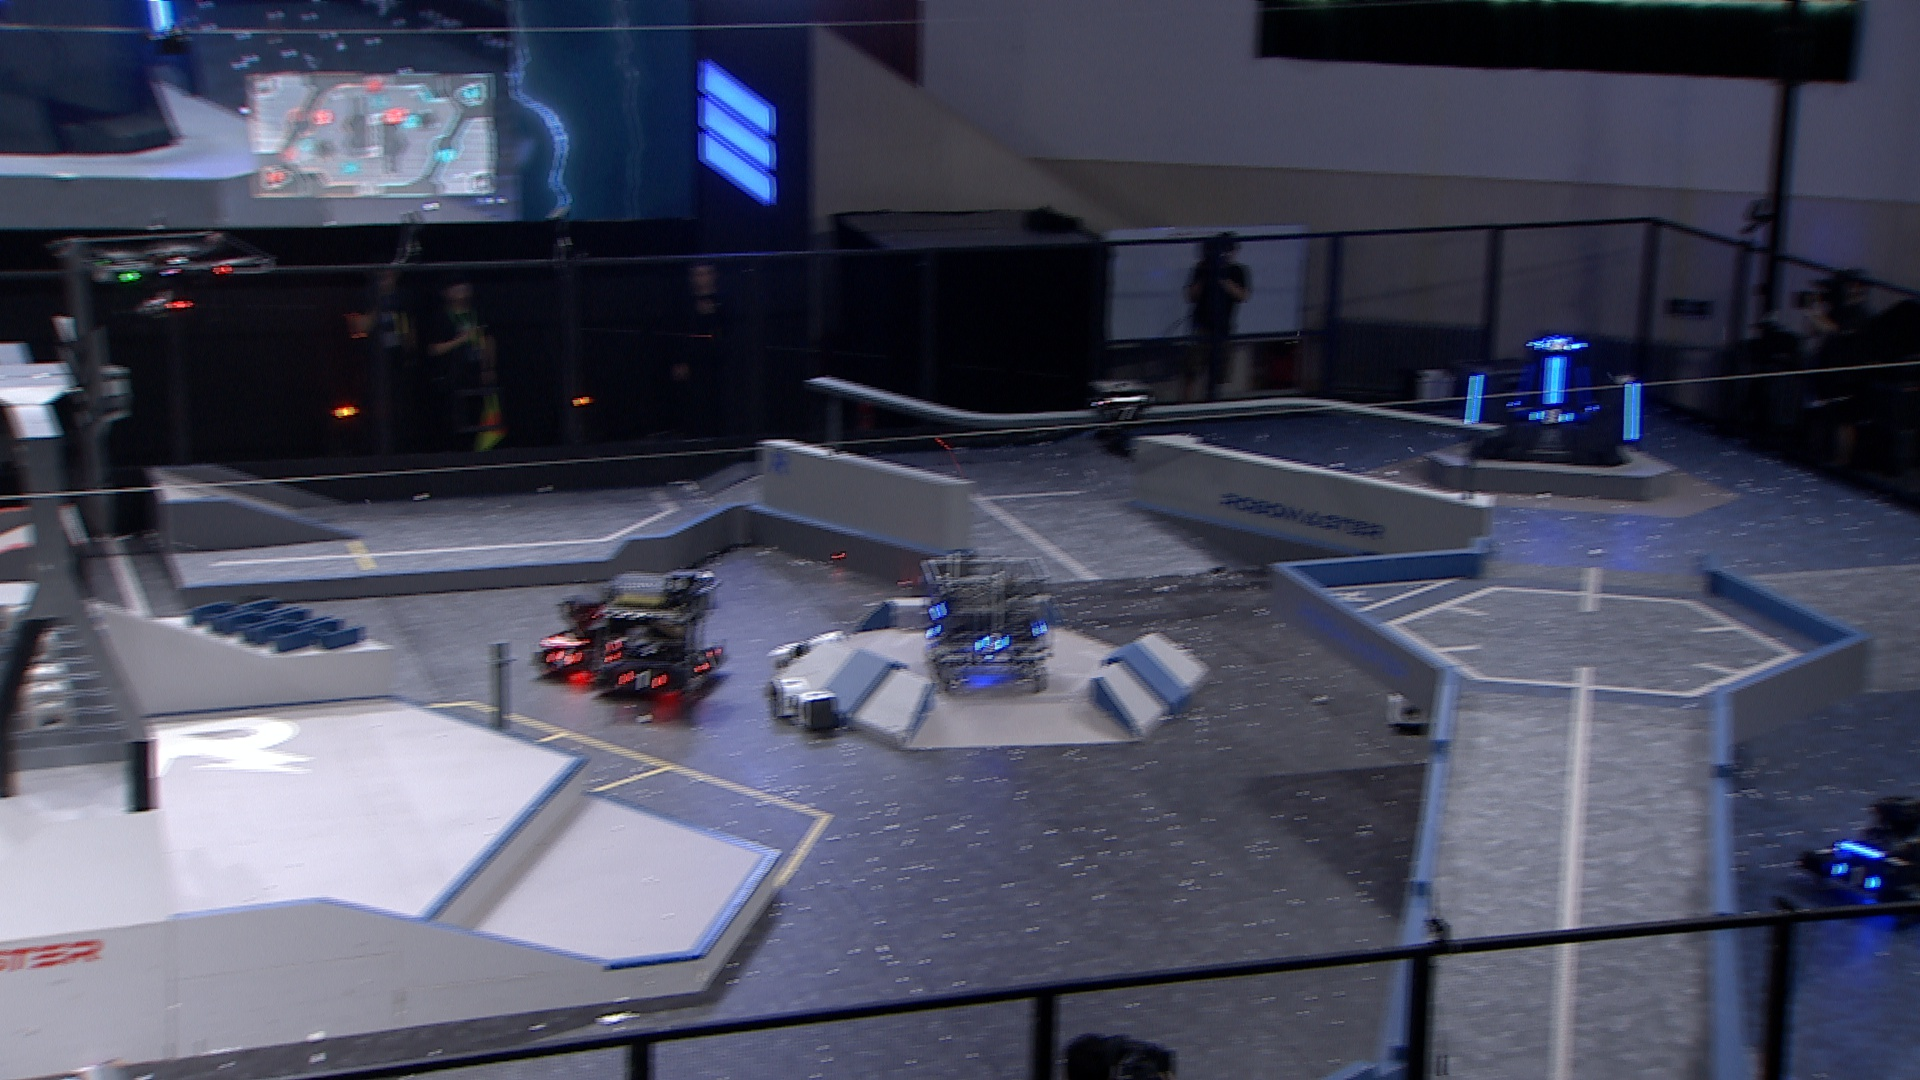armor: (1619, 380, 1644, 447), (1832, 861, 1883, 891), (1542, 352, 1569, 405), (1462, 371, 1487, 425), (617, 669, 667, 694), (972, 632, 1015, 655), (1531, 406, 1575, 427), (1514, 363, 1534, 409), (543, 646, 583, 669), (1106, 405, 1145, 427), (1575, 363, 1593, 409), (1534, 335, 1575, 353), (698, 647, 723, 675)
base: (1456, 335, 1651, 467)
car: (918, 547, 1054, 692), (591, 572, 724, 707), (1795, 794, 1920, 916), (527, 593, 633, 683)
watcher: (1087, 377, 1150, 460)
